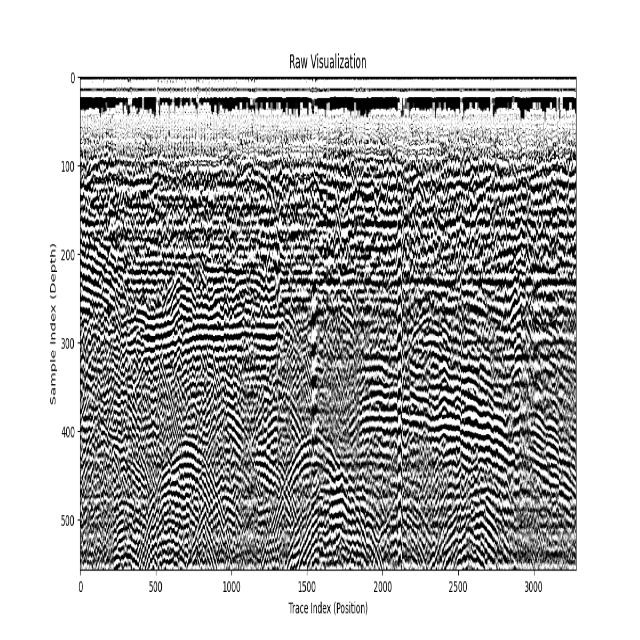anomaly: (282, 408, 390, 570), (141, 442, 240, 570), (224, 422, 299, 565), (515, 163, 535, 520), (449, 480, 512, 570), (376, 494, 444, 570), (99, 496, 153, 567)
